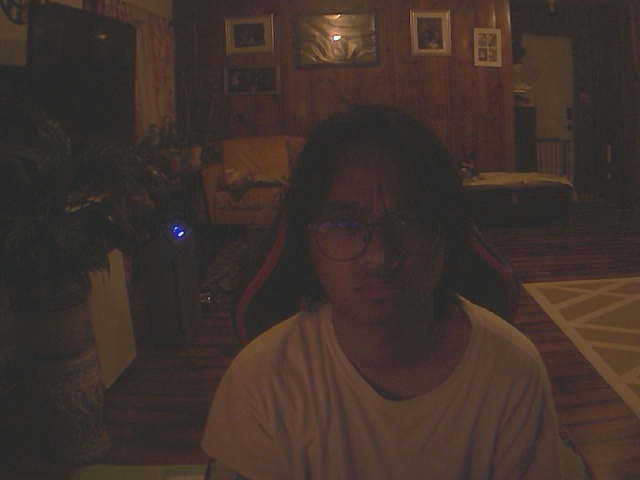anger: (287, 102, 469, 326)
